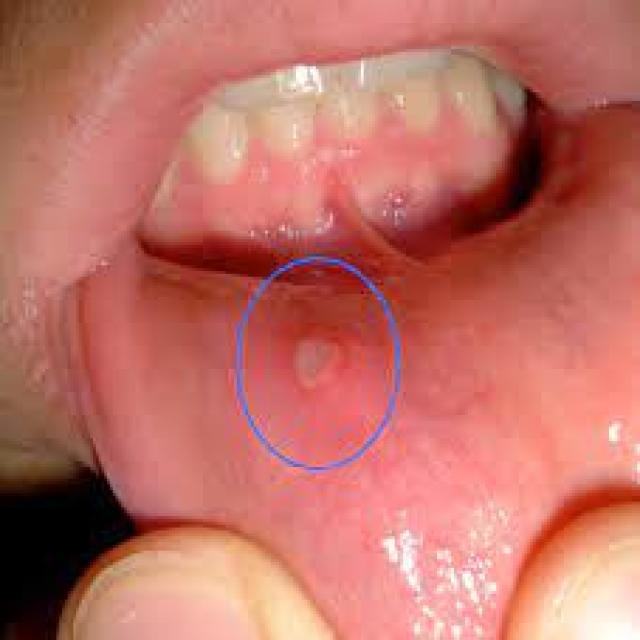processing_area: (84, 103, 637, 637)
ulcer-detection: (260, 297, 386, 435)
